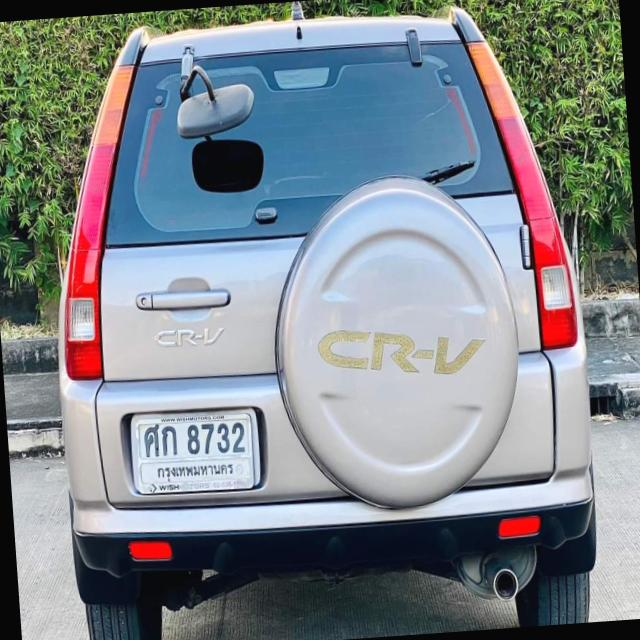license_plate: (132, 402, 264, 501)
